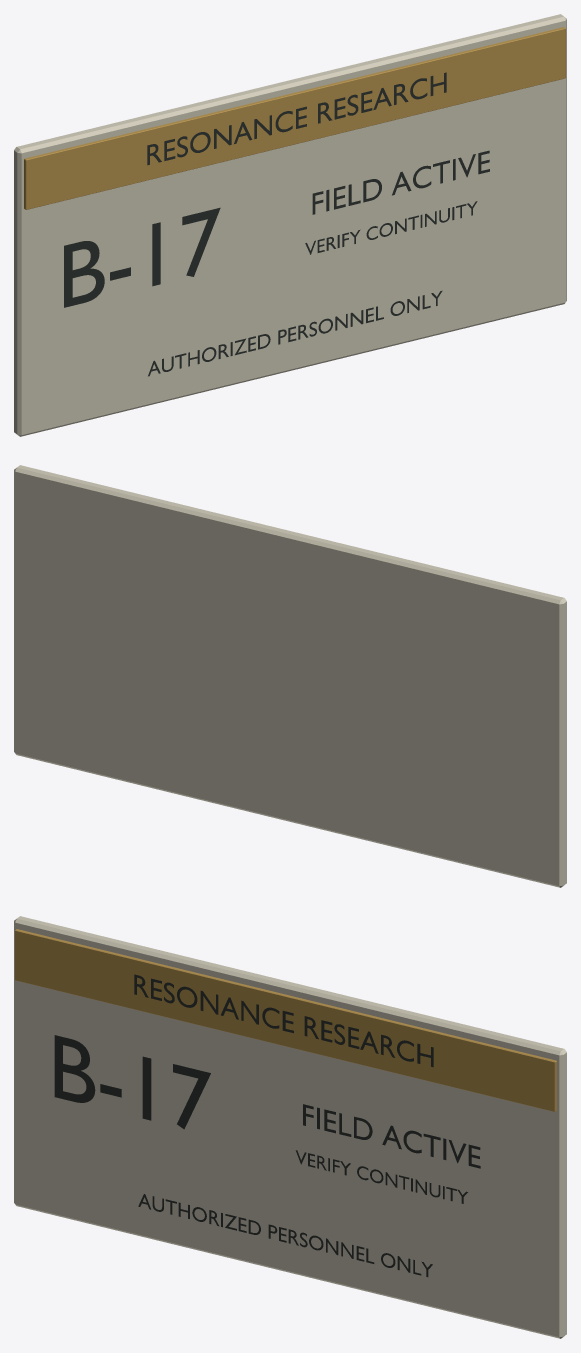
Rendered from facility_sign.glb.
3 views of the same model, one above another, from view 1: azimuth 30°, elevation 25°; view 2: azimuth 150°, elevation 25°; view 3: azimuth 330°, elevation 25° (orthographic).
Visible parts, largest first — view 1: Sign plate, Department strip, Black stencil ink; view 2: Sign plate; view 3: Sign plate, Department strip, Black stencil ink.
Boxes of the visible parts, x1,y1,x2,y2 form: Sign plate: (14, 14, 566, 436); Department strip: (24, 27, 565, 209); Black stencil ink: (64, 72, 489, 376); Sign plate: (14, 465, 566, 887); Sign plate: (14, 916, 566, 1338); Department strip: (15, 929, 556, 1111); Black stencil ink: (54, 974, 480, 1277).
Bounding box in the file's own units: 1.2 × 0.6 × 0.0375.
